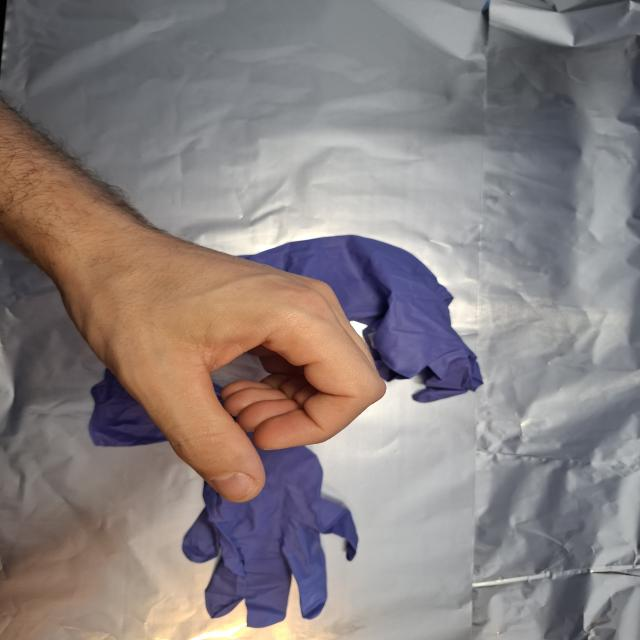glove_off: (55, 219, 389, 505)
